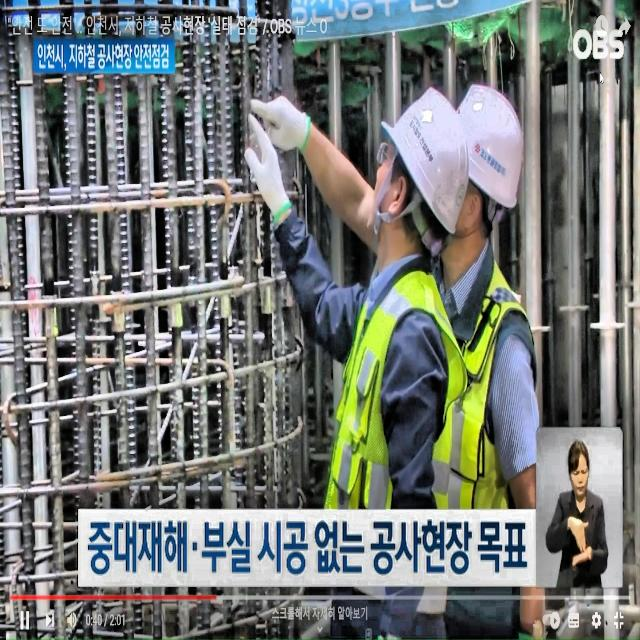safety_helmet: (372, 77, 476, 225), (452, 63, 546, 220)
safety_jacket: (405, 248, 558, 538), (324, 240, 429, 592)
